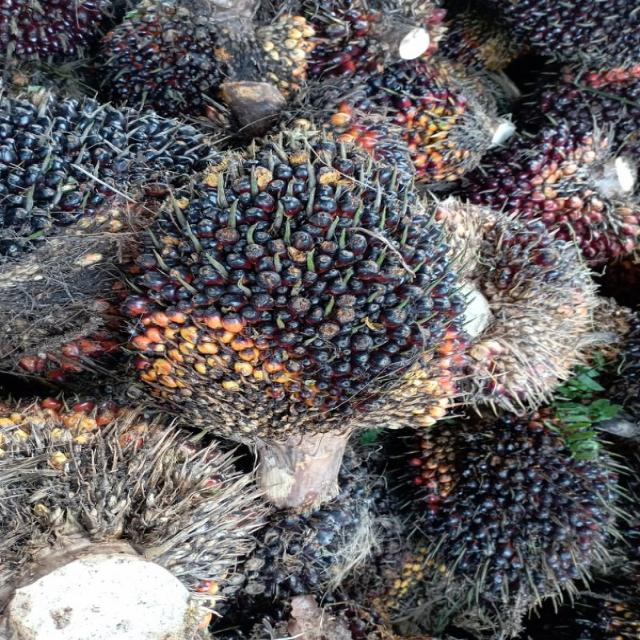fraksi 00: (117, 130, 451, 432), (0, 65, 222, 317), (396, 396, 620, 602), (481, 91, 640, 258), (300, 51, 491, 176), (90, 0, 268, 124), (506, 0, 640, 94)
